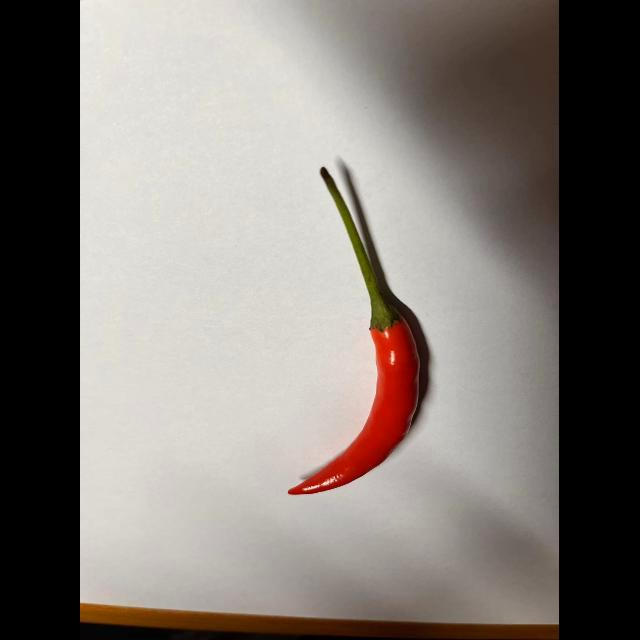chili_pepper: (272, 164, 440, 504)
